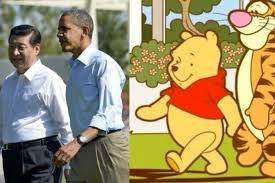Winnie: (162, 27, 229, 121)
